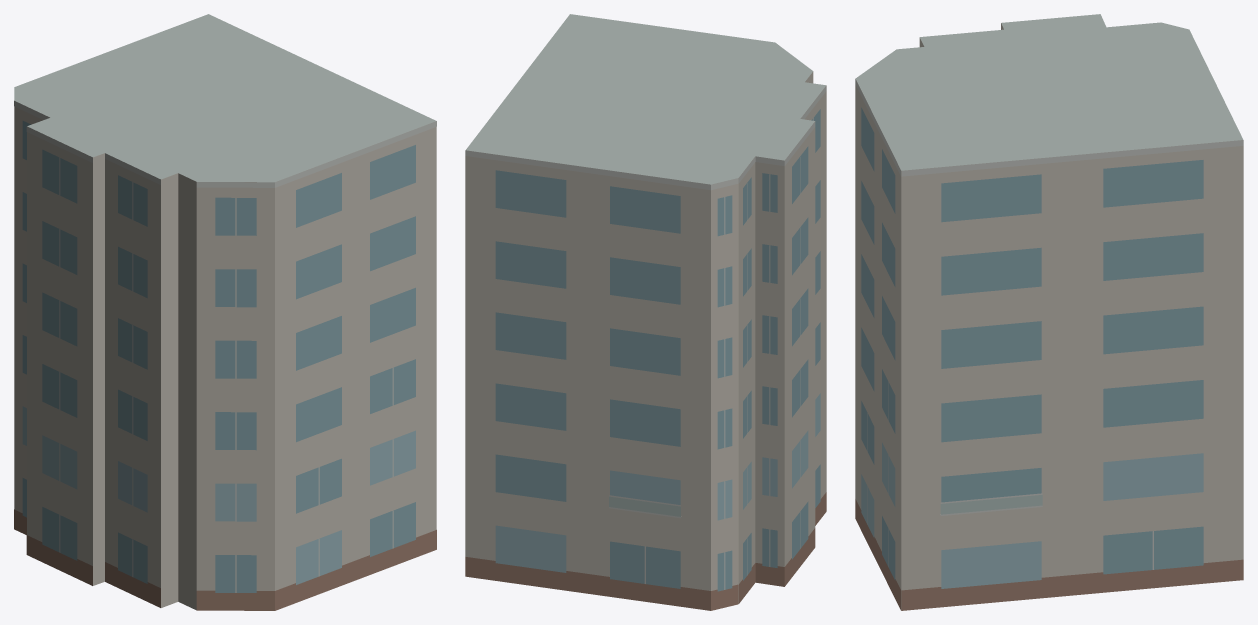
Rendered from survey-upis-32738961.glb.
The picture shows the model from 3 angles, left to right: view 1: azimuth 30°, elevation 25°; view 2: azimuth 150°, elevation 25°; view 3: azimuth 270°, elevation 25°; orthographic projection. The views are drawn at different scales.
Parts seen in each view (by area): view 1: survey-upis-32738961.tmp; view 2: survey-upis-32738961.tmp; view 3: survey-upis-32738961.tmp.
Part boxes in pixels (x1=…): survey-upis-32738961.tmp: x1=14, y1=14, x2=436, y2=610; survey-upis-32738961.tmp: x1=465, y1=14, x2=826, y2=610; survey-upis-32738961.tmp: x1=855, y1=14, x2=1243, y2=610.
Size of the model in its own units: 13.99 by 18.3 by 14.63.
